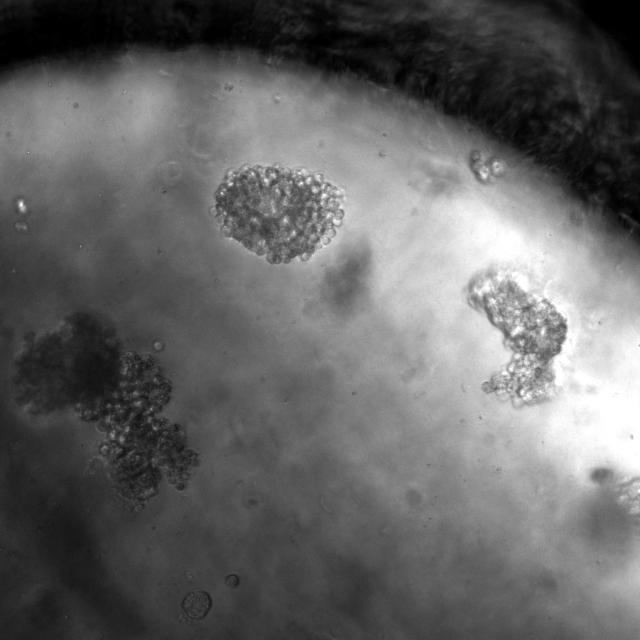organoid: (11, 307, 200, 514), (468, 270, 567, 407), (214, 165, 344, 263), (469, 150, 505, 183), (182, 591, 211, 619), (225, 574, 239, 588)
